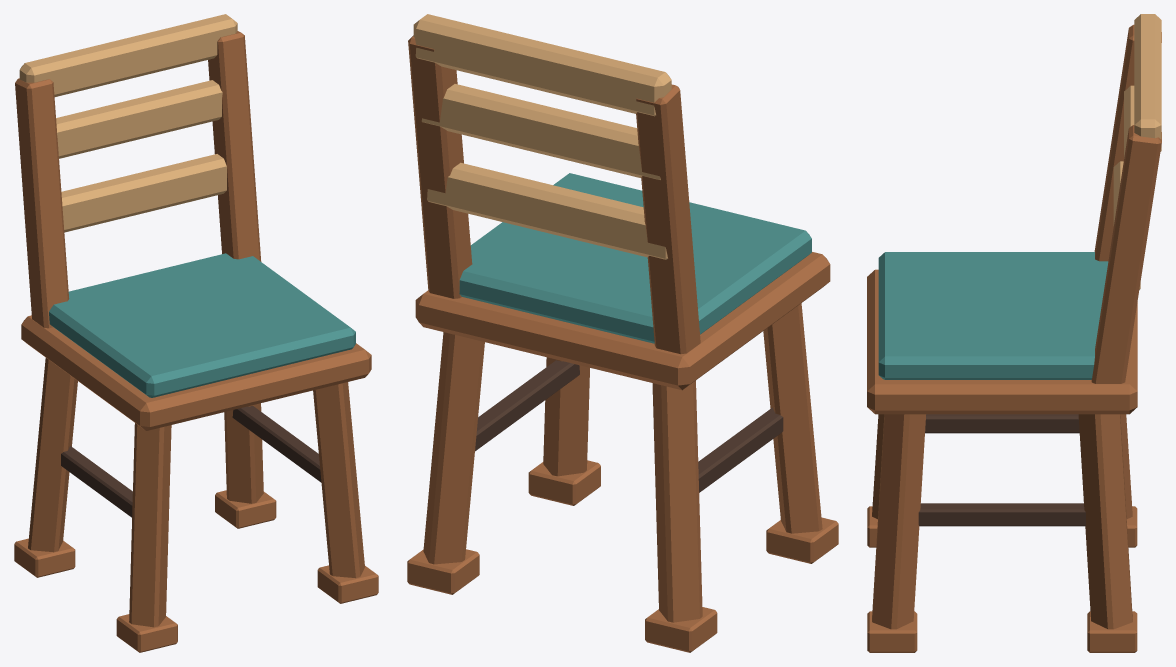
The model's file is 05_Slatted_Cafe_Chair.glb.
3 views of the same model, side by side, from view 1: azimuth 30°, elevation 25°; view 2: azimuth 150°, elevation 25°; view 3: azimuth 270°, elevation 25° (orthographic). The views are drawn at different scales.
Visible parts, largest first — view 1: 05_Slatted_Cafe_Chair__Body; view 2: 05_Slatted_Cafe_Chair__Body; view 3: 05_Slatted_Cafe_Chair__Body.
Boxes of the visible parts, x1,y1,x2,y2 form: 05_Slatted_Cafe_Chair__Body: (14, 14, 378, 652); 05_Slatted_Cafe_Chair__Body: (407, 14, 838, 652); 05_Slatted_Cafe_Chair__Body: (867, 14, 1161, 652).
Bounding box in the file's own units: 1.44 × 2.78 × 1.42.
Materials: 1 (1 with a texture image).
